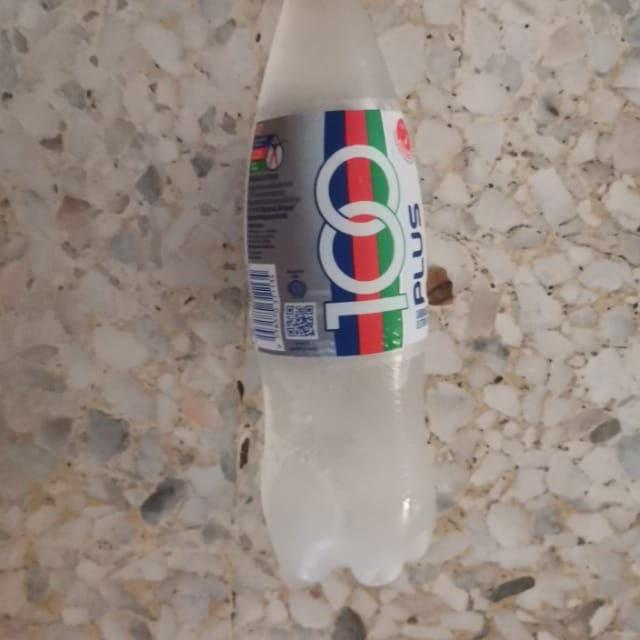plastic: (213, 0, 564, 594)
